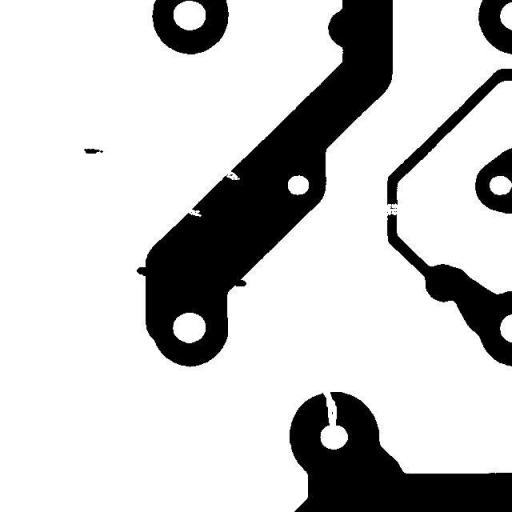copper: (76, 141, 110, 161)
mousebite: (217, 162, 247, 187), (178, 201, 209, 224)
open: (315, 381, 344, 435), (377, 196, 406, 222)
spur: (129, 259, 160, 284), (226, 272, 254, 294)
